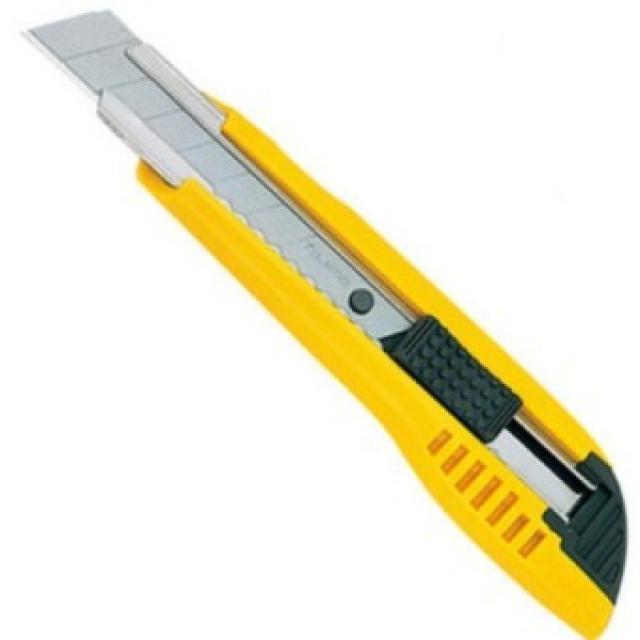cutter: (19, 7, 629, 640)
